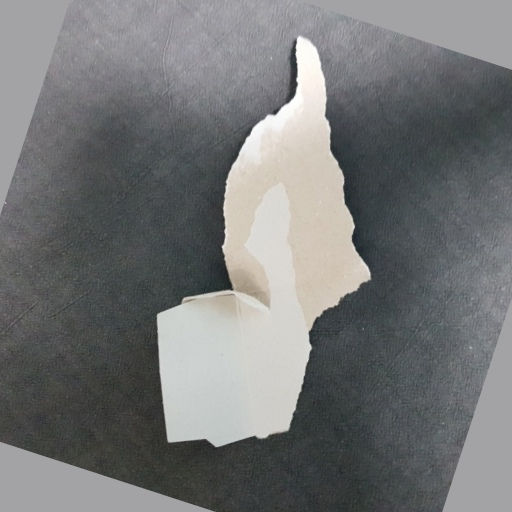Paper_3: (157, 33, 376, 463)
